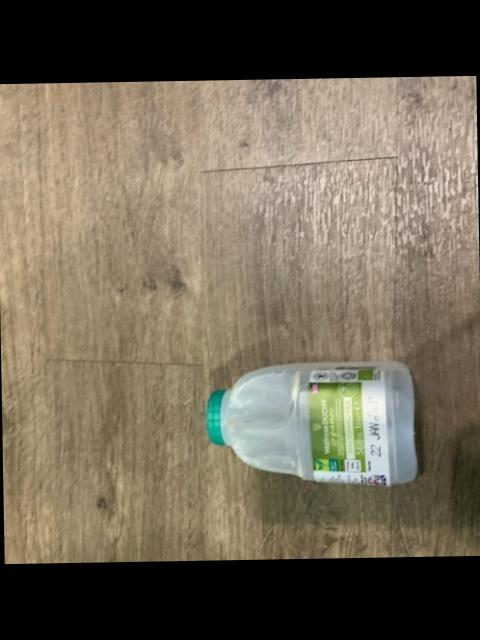plastic: (204, 364, 414, 487)
